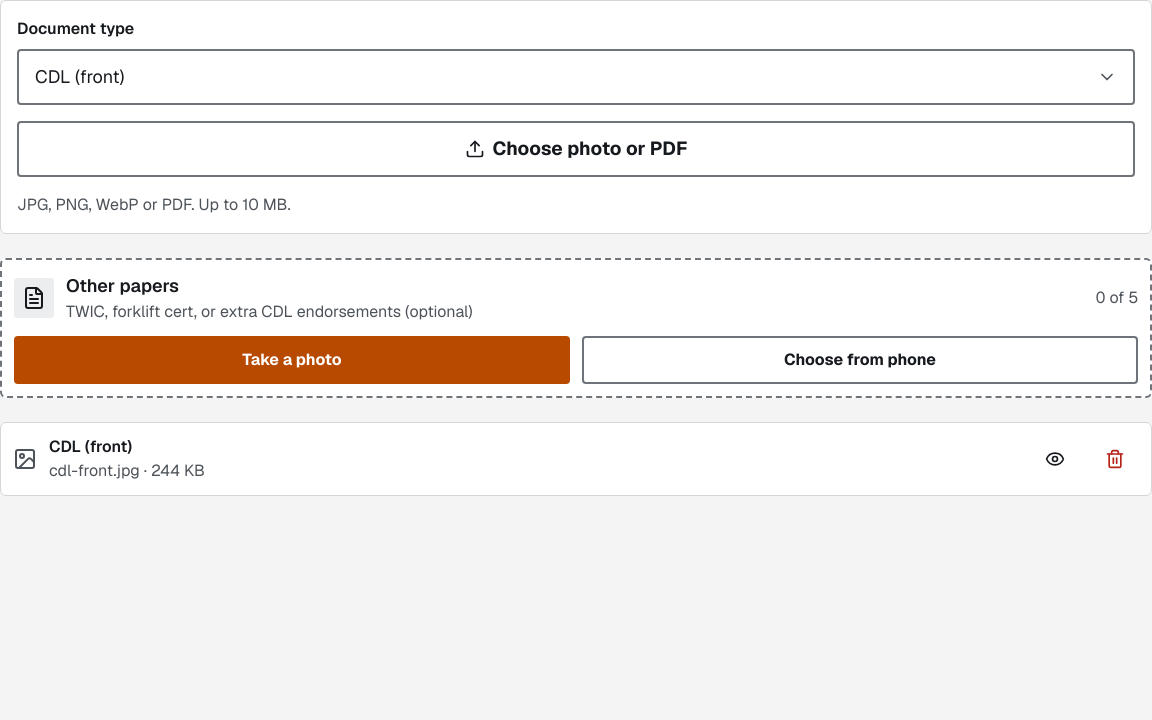
Test: DocumentUploader › delete › asks first, and Cancel keeps the document
Click the button named "Delete cdl-front.jpg" at [1115, 459], box [1091, 435, 1139, 483]
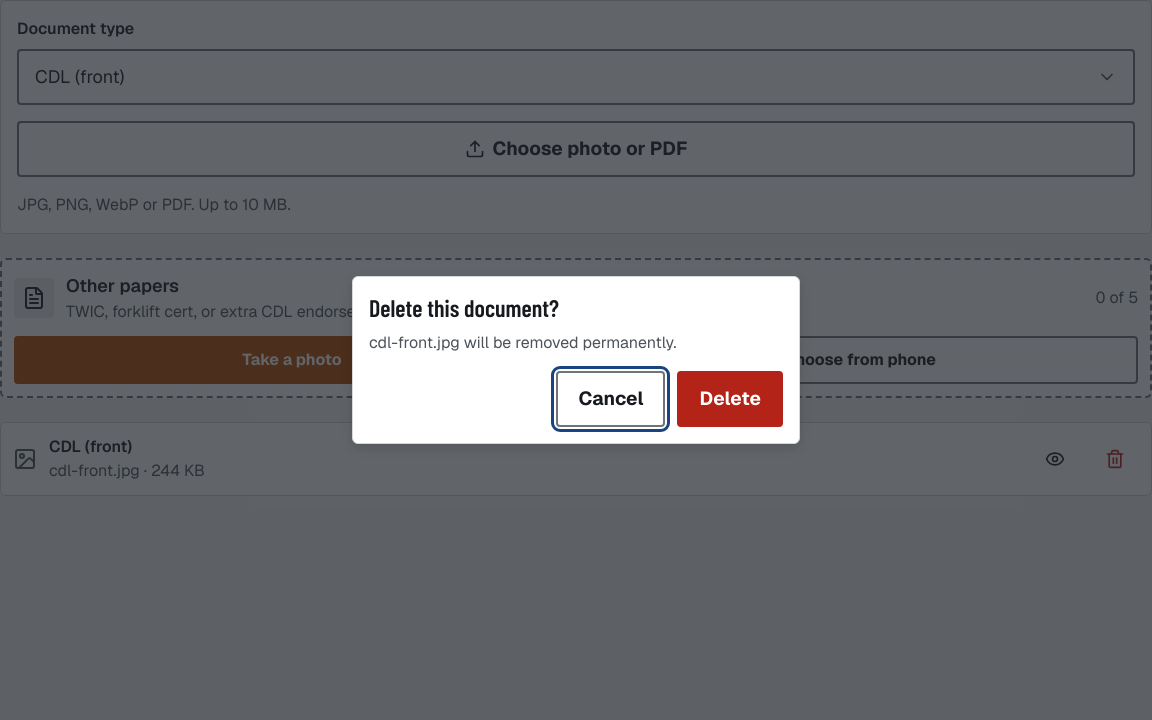
Check: the dialog shows "cdl-front.jpg will be removed permanently.", box [352, 276, 800, 444]
Click the button "Cancel" at [611, 399], box [556, 371, 665, 427]
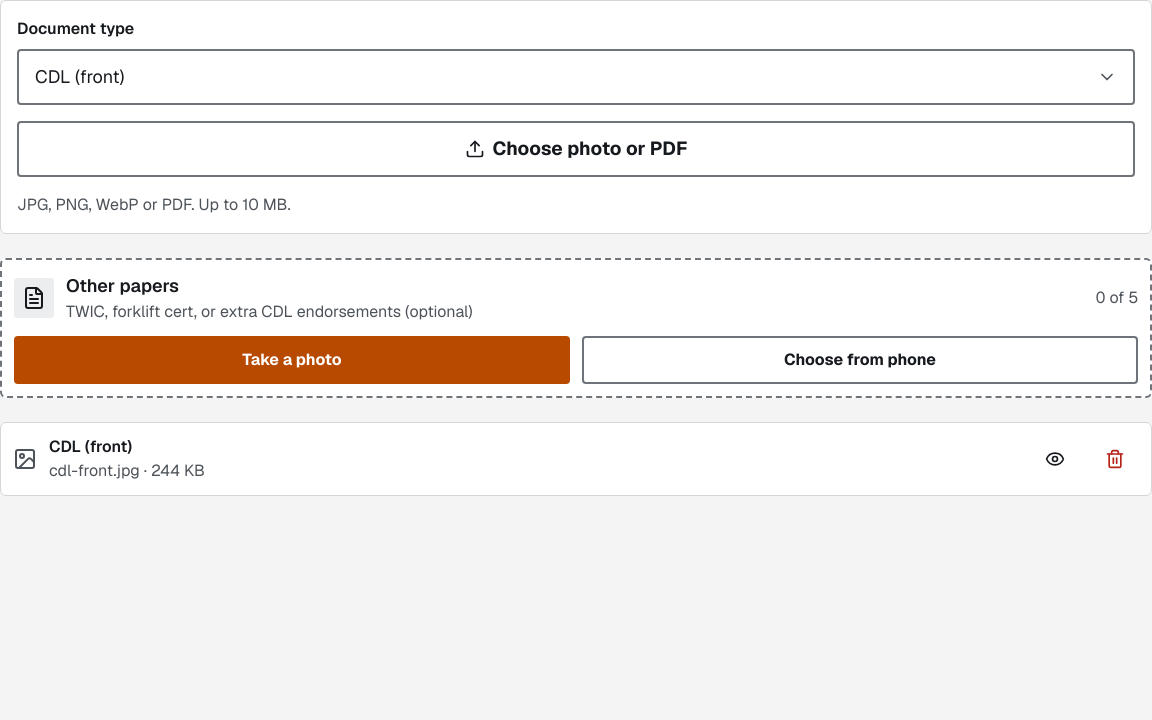
Check: the number of list items is 1, box [0, 422, 1151, 496]
Check: the dialog is gone
